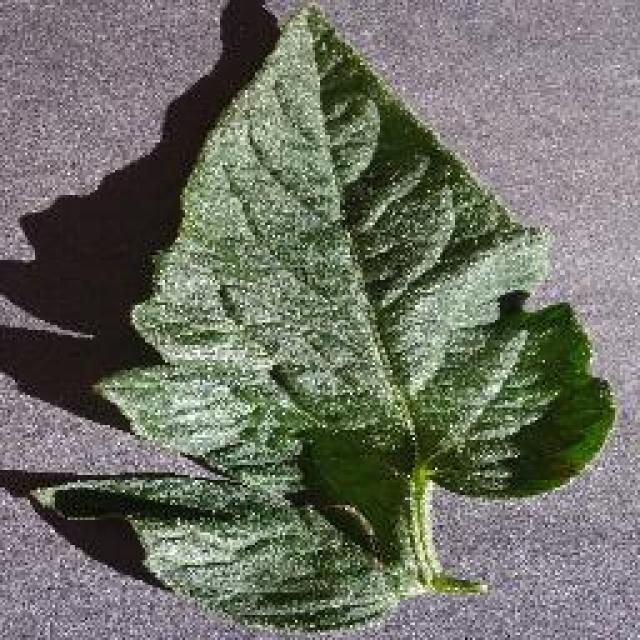Tomato___healthy: (27, 2, 616, 636)
